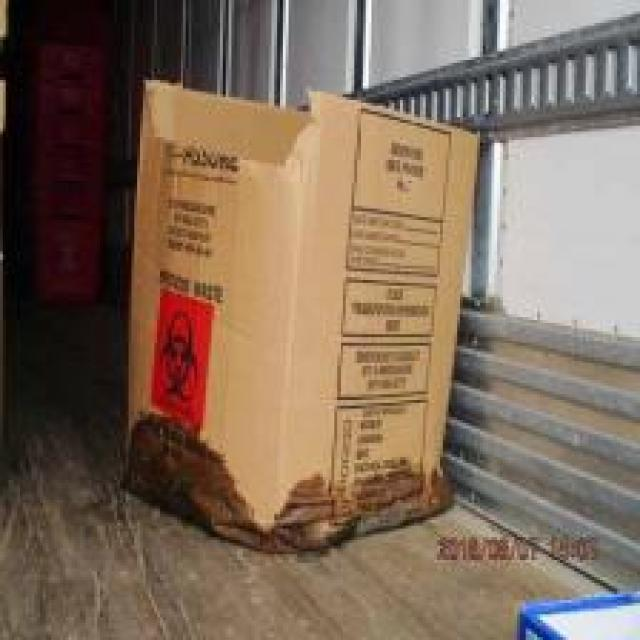box: (1, 1, 640, 631)
